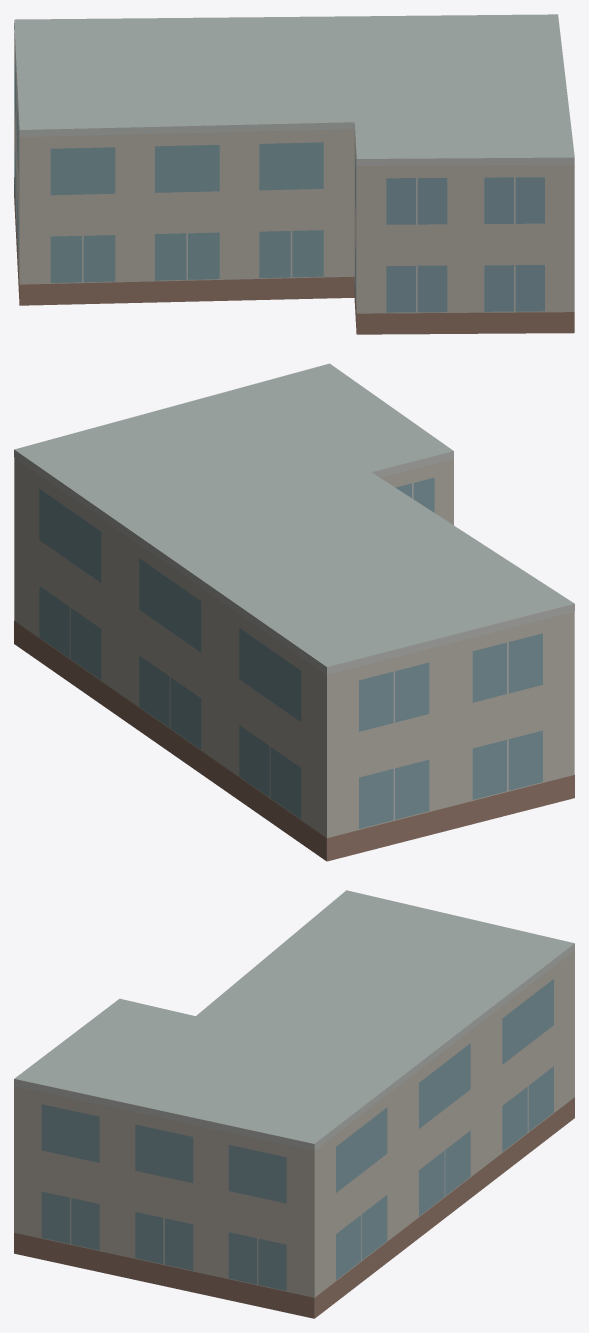
Rendered from survey-upis-33039095.glb.
3 renders of one model, top to bottom at view 1: azimuth 30°, elevation 25°; view 2: azimuth 150°, elevation 25°; view 3: azimuth 270°, elevation 25°, orthographic. The views are drawn at different scales.
Parts seen in each view (by area): view 1: survey-upis-33039095.tmp; view 2: survey-upis-33039095.tmp; view 3: survey-upis-33039095.tmp.
Boxes of the visible parts, x1=… form: survey-upis-33039095.tmp: x1=14, y1=14, x2=574, y2=334; survey-upis-33039095.tmp: x1=14, y1=363, x2=574, y2=861; survey-upis-33039095.tmp: x1=14, y1=890, x2=574, y2=1318.
Bounding box in the file's own units: 19.01 × 6.1 × 17.75.
